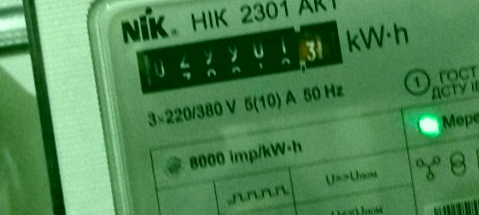0: (247, 33, 265, 60), (148, 55, 166, 79)
1: (273, 30, 289, 55)
2: (173, 46, 191, 70)
3: (300, 37, 318, 62)
9: (223, 40, 239, 64), (198, 42, 213, 65)
screen: (124, 10, 352, 105)
